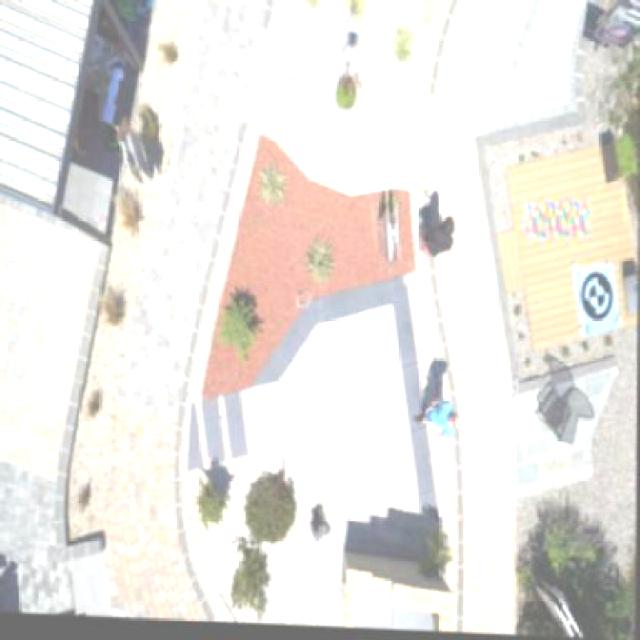Person: (412, 391, 477, 446)
